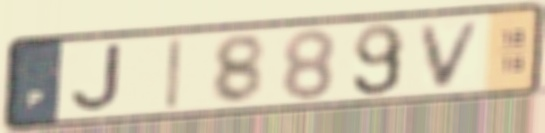8: (209, 31, 268, 107), (279, 26, 338, 102)
9: (349, 20, 409, 99)
I: (162, 33, 186, 113)
J: (68, 41, 124, 114)
V: (417, 17, 488, 91)
